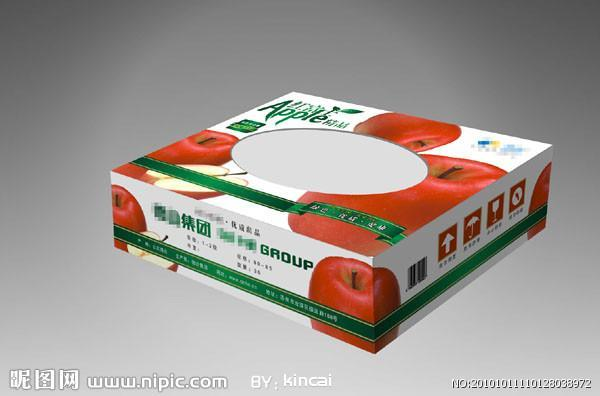apple: (307, 255, 398, 323)
